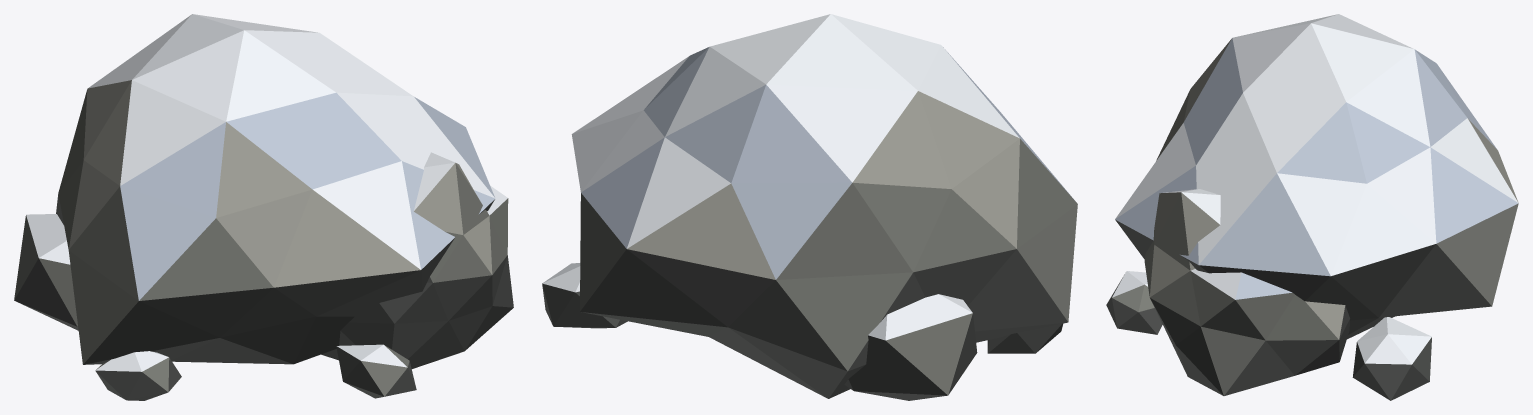
File: boulder_big.glb
3 views of the same model, side by side, from view 1: azimuth 30°, elevation 25°; view 2: azimuth 150°, elevation 25°; view 3: azimuth 270°, elevation 25° (orthographic). The views are drawn at different scales.
Visible parts, largest first — view 1: boulder_big; view 2: boulder_big; view 3: boulder_big.
Boxes of the visible parts, x1,y1,x2,y2 form: boulder_big: (14, 14, 513, 400); boulder_big: (542, 14, 1077, 400); boulder_big: (1106, 14, 1518, 400).
Size of what is drawn, in the model's own units: 4.95 by 3.45 by 4.53.
Materials: 2 (2 with a texture image).
